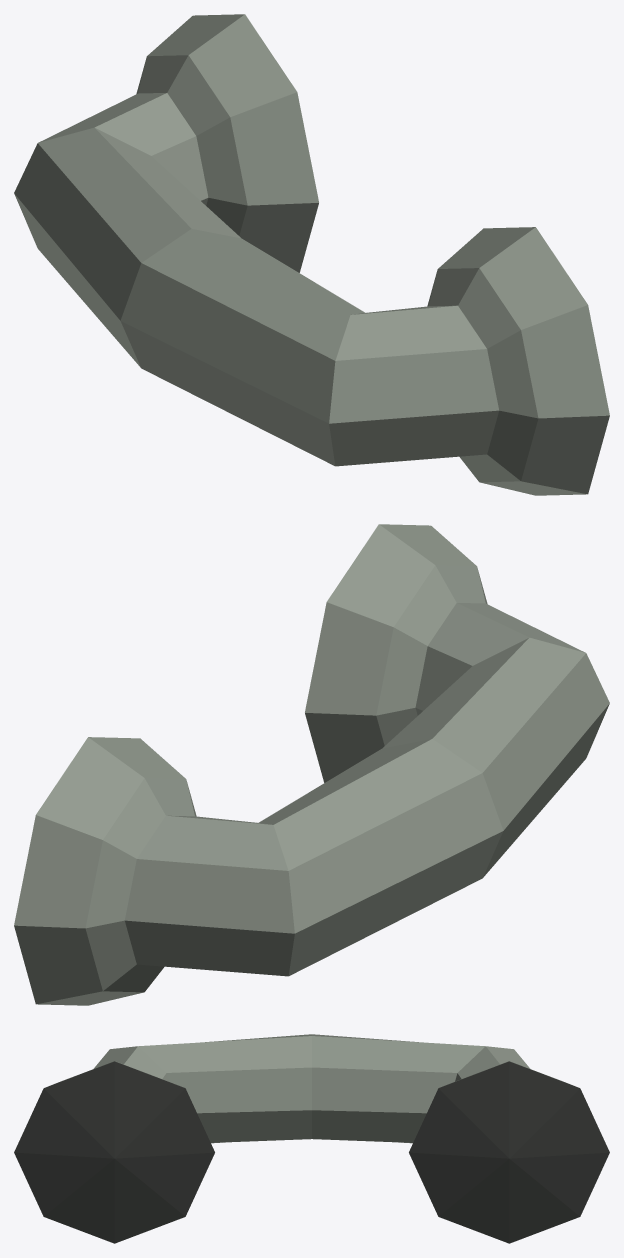
The model's file is hard_phone_2.fbx.
3 renders of one model, top to bottom at view 1: azimuth 30°, elevation 25°; view 2: azimuth 150°, elevation 25°; view 3: azimuth 270°, elevation 25°, orthographic. The views are drawn at different scales.
Visible parts, largest first — view 1: hard_phone_2; view 2: hard_phone_2; view 3: hard_phone_2.
Boxes of the visible parts, box(x1,y1,x2,y2) form: hard_phone_2: box(14, 14, 609, 495); hard_phone_2: box(14, 524, 609, 1005); hard_phone_2: box(14, 1034, 609, 1243).
Bounding box in the file's own units: 0.5208 × 0.4637 × 1.37.
